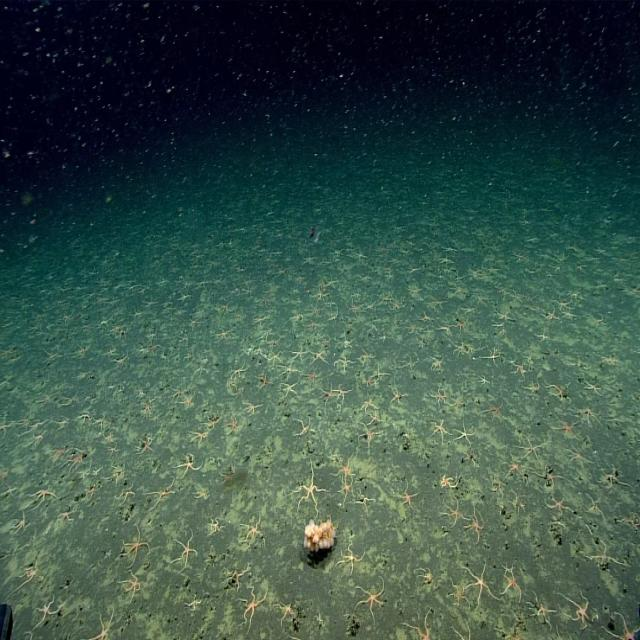brittle-stars: (293, 459, 331, 518), (596, 598, 640, 640), (352, 578, 390, 626), (557, 585, 596, 631), (464, 558, 495, 610), (584, 538, 626, 575), (168, 524, 198, 575), (116, 523, 150, 565), (399, 604, 437, 640), (514, 428, 550, 464), (80, 606, 117, 640), (234, 589, 266, 627), (142, 477, 178, 510), (239, 509, 267, 550), (31, 589, 68, 619), (10, 558, 41, 592), (333, 545, 361, 582), (441, 494, 469, 530), (553, 409, 581, 445), (498, 569, 522, 609), (173, 448, 206, 477), (594, 464, 628, 491), (27, 481, 57, 510), (118, 570, 142, 606), (467, 506, 492, 540), (482, 396, 511, 424), (220, 560, 247, 590), (445, 577, 468, 612), (530, 594, 555, 626), (428, 413, 452, 443), (53, 502, 77, 532), (565, 443, 594, 467), (536, 465, 563, 490), (452, 423, 477, 450), (306, 339, 331, 365), (395, 482, 416, 512), (548, 493, 569, 522), (354, 426, 381, 448), (354, 486, 376, 512), (438, 470, 462, 493), (618, 506, 640, 531), (188, 423, 213, 445), (548, 380, 568, 407), (582, 495, 606, 517), (400, 352, 420, 378), (24, 413, 44, 439), (354, 346, 377, 368), (582, 400, 600, 428), (0, 411, 16, 442), (523, 377, 544, 400), (278, 356, 299, 379), (501, 458, 525, 478), (294, 415, 314, 439), (333, 379, 353, 403), (242, 396, 262, 420), (66, 448, 86, 472), (448, 623, 475, 640), (10, 510, 29, 534), (42, 345, 66, 364), (338, 474, 355, 500), (422, 356, 444, 376), (335, 456, 355, 478), (177, 393, 196, 416), (275, 600, 293, 624), (418, 562, 434, 589), (580, 379, 604, 397), (597, 352, 622, 369), (51, 442, 68, 467), (510, 493, 531, 513), (431, 388, 450, 410), (280, 377, 299, 399), (333, 350, 352, 372), (116, 484, 136, 504), (204, 407, 221, 430), (206, 516, 222, 540), (389, 386, 405, 410), (71, 345, 92, 363), (498, 556, 515, 578), (223, 414, 240, 436), (107, 464, 125, 484), (217, 466, 235, 486), (28, 429, 46, 449), (337, 328, 355, 348), (359, 395, 377, 414), (304, 365, 321, 385), (322, 379, 335, 405), (367, 410, 385, 428), (80, 485, 98, 503), (487, 477, 508, 492), (0, 340, 14, 362), (453, 339, 467, 361), (62, 394, 80, 411), (114, 351, 131, 369), (484, 346, 499, 366), (511, 364, 529, 380), (228, 360, 246, 376), (1, 482, 19, 498), (95, 409, 107, 433), (405, 323, 423, 339), (187, 590, 200, 612), (449, 393, 464, 412), (98, 346, 117, 361), (530, 330, 550, 344), (452, 317, 472, 331), (291, 342, 305, 362), (79, 405, 91, 428), (136, 441, 153, 457), (37, 393, 54, 409), (18, 411, 32, 430), (58, 414, 70, 436), (336, 319, 356, 332), (589, 314, 606, 329), (374, 364, 388, 382), (464, 339, 478, 357), (305, 318, 319, 336), (194, 360, 208, 378), (258, 371, 270, 391), (436, 320, 452, 335), (267, 331, 279, 350), (171, 385, 183, 403), (552, 297, 566, 312), (478, 371, 490, 388), (79, 464, 91, 481), (91, 461, 103, 478), (9, 351, 21, 368), (104, 427, 114, 447), (0, 376, 10, 396), (496, 308, 514, 319), (106, 442, 119, 457), (217, 327, 230, 342), (540, 311, 557, 322), (269, 350, 283, 363), (251, 316, 266, 328), (196, 488, 208, 502), (225, 374, 235, 390), (315, 612, 325, 628), (560, 314, 580, 322), (148, 342, 158, 358), (416, 335, 427, 349), (112, 319, 120, 337), (182, 353, 195, 364), (136, 344, 146, 358), (118, 327, 127, 342), (141, 401, 152, 413), (290, 310, 301, 322), (418, 313, 431, 323), (320, 334, 330, 346), (256, 342, 264, 356), (495, 319, 505, 330), (378, 331, 388, 342), (82, 321, 92, 332), (98, 317, 110, 326), (180, 329, 188, 342), (365, 375, 374, 386), (136, 388, 145, 398), (423, 326, 432, 336), (498, 331, 506, 338)
